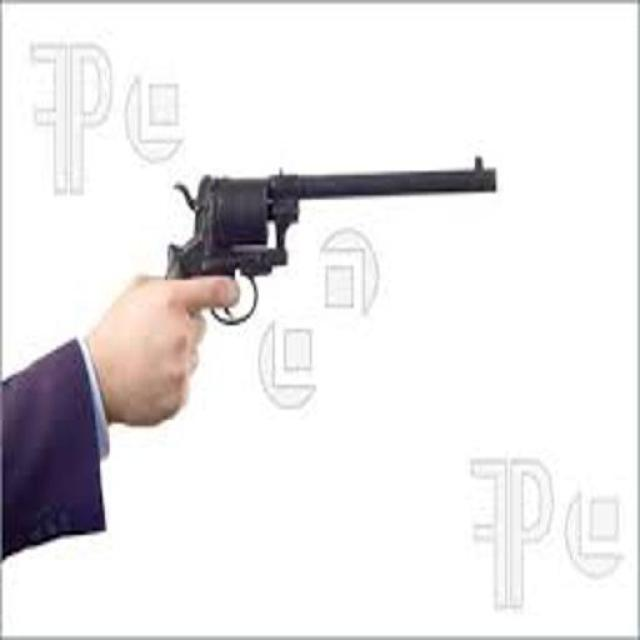pistol: (165, 150, 505, 339)
